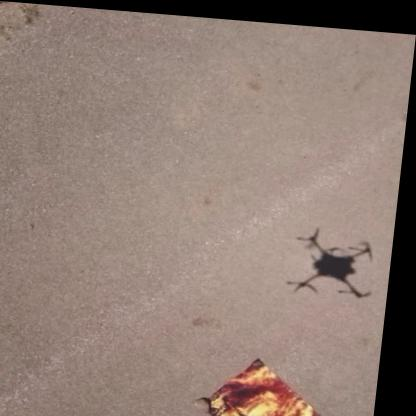fire-poster: (200, 348, 338, 416)
